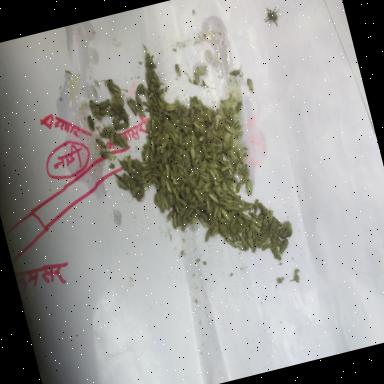pbw: (84, 110, 97, 133), (203, 121, 218, 140), (157, 174, 169, 196), (268, 226, 282, 244), (244, 177, 257, 196), (224, 224, 237, 243), (124, 154, 135, 176), (218, 220, 230, 240), (210, 218, 222, 238), (270, 242, 282, 262), (143, 116, 156, 134), (126, 98, 138, 117), (193, 119, 208, 134), (191, 150, 205, 166), (100, 148, 116, 162), (114, 132, 126, 150), (238, 233, 249, 252), (212, 184, 228, 197), (115, 176, 128, 192), (228, 64, 244, 77), (210, 204, 223, 220), (142, 145, 154, 162), (166, 128, 178, 145), (278, 238, 290, 255), (184, 184, 194, 204), (220, 100, 231, 118), (133, 188, 147, 202), (163, 209, 177, 223), (238, 172, 252, 186), (172, 118, 186, 132), (192, 186, 204, 202), (106, 128, 118, 144), (233, 238, 246, 252), (223, 147, 237, 160), (152, 112, 166, 125), (235, 162, 249, 175), (226, 168, 238, 183), (195, 94, 205, 112), (253, 232, 268, 244), (97, 98, 112, 110), (182, 166, 192, 184), (199, 167, 211, 182), (122, 172, 132, 190), (200, 208, 210, 226), (233, 100, 244, 116), (240, 201, 256, 212), (266, 222, 277, 238), (207, 220, 217, 237), (134, 94, 144, 111), (202, 228, 214, 242), (176, 194, 188, 208), (202, 148, 216, 160), (153, 188, 165, 202), (182, 134, 194, 148), (176, 172, 188, 186), (178, 218, 190, 232), (274, 226, 288, 238), (157, 138, 171, 150), (224, 203, 239, 214), (207, 164, 216, 182), (129, 96, 139, 112), (236, 146, 244, 166), (170, 160, 180, 176), (170, 212, 180, 228), (134, 176, 150, 186), (245, 77, 255, 93), (221, 206, 231, 222), (259, 200, 269, 216), (252, 198, 262, 214), (163, 102, 179, 112), (280, 226, 293, 238), (107, 82, 120, 94), (208, 192, 219, 206), (213, 128, 224, 142), (234, 196, 248, 207), (231, 192, 245, 203), (232, 161, 243, 175), (111, 114, 122, 128), (203, 197, 212, 214), (266, 210, 276, 225), (115, 121, 130, 131), (151, 174, 161, 189), (184, 148, 192, 166), (191, 101, 203, 113), (247, 210, 259, 222), (225, 238, 237, 250), (190, 129, 198, 147), (227, 216, 239, 228), (132, 169, 144, 181), (114, 172, 126, 184), (212, 117, 222, 131), (198, 214, 208, 228), (166, 114, 176, 128), (150, 166, 164, 176), (128, 186, 142, 196), (272, 214, 282, 228), (224, 122, 234, 136), (250, 220, 260, 234), (162, 163, 170, 180), (246, 229, 254, 246), (227, 135, 236, 150), (116, 108, 127, 120), (200, 182, 212, 193), (150, 159, 162, 170), (150, 76, 161, 88), (252, 215, 262, 228), (144, 72, 152, 88), (164, 178, 172, 194), (192, 166, 201, 180), (118, 158, 127, 172), (257, 238, 271, 247), (140, 167, 152, 177), (130, 157, 142, 167), (98, 130, 110, 140), (206, 140, 218, 150), (250, 240, 260, 252), (194, 180, 206, 190), (178, 206, 188, 218), (162, 196, 170, 210), (162, 128, 170, 142), (175, 213, 183, 227), (246, 237, 254, 251), (186, 207, 196, 218), (232, 182, 242, 193), (104, 109, 116, 118), (165, 146, 174, 158), (220, 179, 228, 192), (158, 200, 166, 213), (241, 211, 251, 221), (224, 116, 234, 126), (219, 198, 229, 208), (225, 194, 236, 203), (189, 146, 196, 160), (239, 219, 251, 227), (258, 224, 270, 232), (227, 106, 235, 118), (228, 157, 240, 165), (200, 144, 208, 156), (222, 172, 234, 180), (152, 152, 164, 160), (132, 163, 144, 171), (212, 167, 220, 179), (194, 71, 201, 84), (168, 194, 175, 207), (176, 132, 183, 145), (174, 63, 181, 76), (250, 230, 257, 243), (213, 134, 222, 144), (156, 103, 166, 112), (236, 207, 246, 216), (226, 187, 234, 198), (102, 125, 113, 133), (214, 152, 225, 160), (219, 164, 230, 172), (140, 181, 151, 189), (213, 180, 224, 188), (183, 118, 194, 126), (123, 134, 129, 148), (260, 243, 272, 250), (182, 123, 188, 137), (144, 88, 150, 102), (150, 140, 156, 154), (206, 108, 212, 122), (172, 184, 178, 198), (145, 132, 155, 140), (174, 150, 182, 160), (210, 152, 218, 162), (240, 166, 250, 174), (258, 212, 266, 222), (160, 91, 166, 104), (149, 104, 155, 116), (150, 119, 156, 131), (208, 161, 218, 168), (195, 206, 202, 216), (104, 78, 112, 86), (142, 100, 150, 108), (197, 134, 205, 142), (149, 150, 154, 162), (162, 109, 170, 116), (148, 91, 155, 99), (153, 129, 161, 136), (173, 144, 180, 151), (234, 120, 240, 128), (242, 230, 246, 240), (158, 98, 162, 107), (235, 125, 241, 130)
